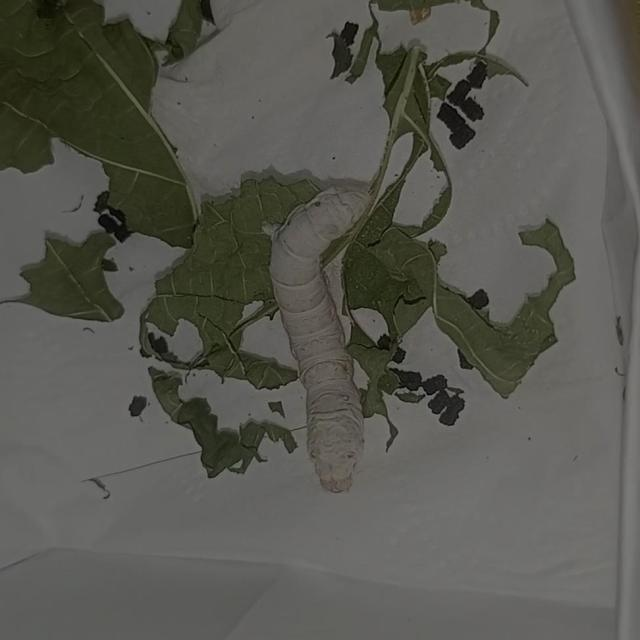Healthy: (254, 166, 410, 514)
